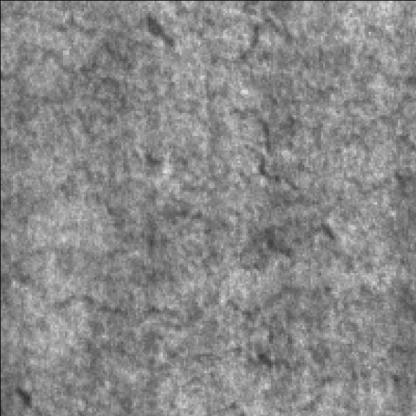crazing: (243, 10, 414, 204), (96, 277, 414, 370), (4, 214, 258, 327)
